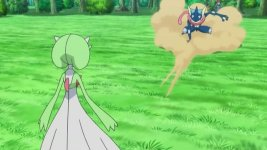gardevoir: (42, 35, 118, 150)
greninja: (174, 1, 229, 43)
